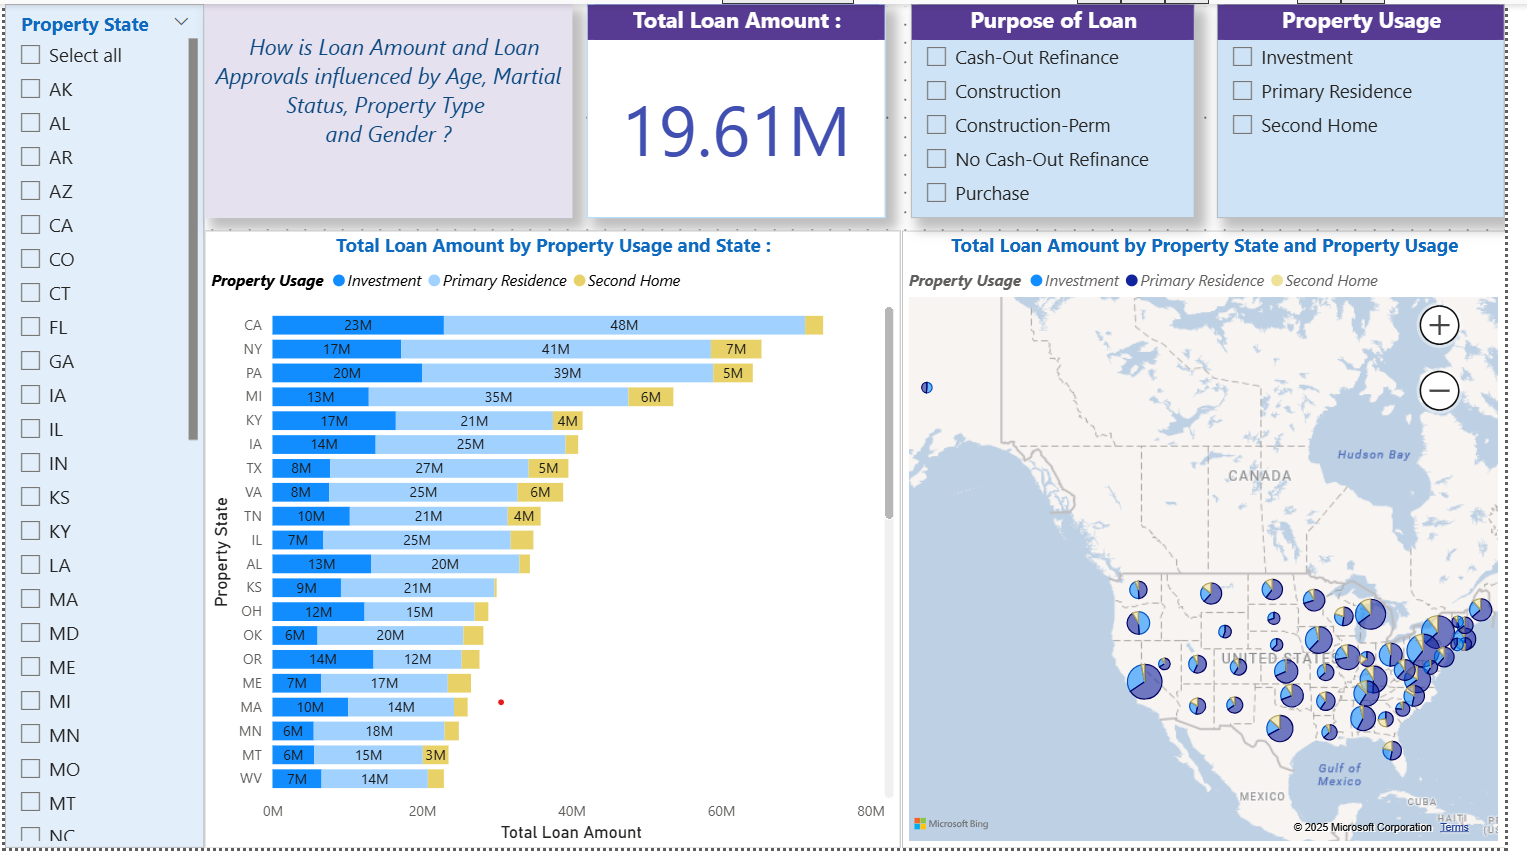

Layout of this report page (visuals, bound fields, positions):
{"tool":"powerbi","page":{"name":"Property","canvas":[1280,720],"ordinal":3},"visuals":[{"type":"slicer","fields":{"Values":["Property.Property State"]},"box":[0,0,170,720],"z":0},{"type":"textbox","box":[170.7,0,313.9,182.9],"z":1000},{"type":"card","fields":{"Values":["Sum(Financials.Monthly Income)"]},"box":[496.8,0,254.5,182.9],"z":2000},{"type":"barChart","fields":{"Y":["Measure Table.Total Loan Amount"],"Category":["Property.Property State"],"Series":["Loan.Property Usage"]},"box":[170.7,193.5,594.3,527.2],"z":3000},{"type":"map","fields":{"Category":["Property.Property Location Hierarchy.Property State","Property.Property Location Hierarchy.Property City"],"Size":["Measure Table.Total Loan Amount"],"Series":["Loan.Property Usage"]},"box":[765,193.5,515,527.2],"z":4000},{"type":"slicer","title":"Property Usage","fields":{"Values":["Loan.Property Usage"]},"box":[1034.7,0,245.3,182.9],"z":5000},{"type":"slicer","title":"Purpose of Loan","fields":{"Values":["Loan.Purpose of Loan"]},"box":[772.6,0,242.3,182.9],"z":6000}]}

Visuals, with their boxes in screenshot pixels (x1, y1, x2, y2), scaled from the page's 1280x720 canvas onto the 1527x865 screenshot:
slicer - Property.Property State: <region>0, 0, 203, 864</region>
textbox: <region>204, 0, 578, 220</region>
card - Sum(Financials.Monthly Income): <region>593, 0, 896, 220</region>
barChart - Measure Table.Total Loan Amount x Property.Property State: <region>204, 232, 913, 864</region>
map - Property.Property Location Hierarchy.Property State x Property.Property Location Hierarchy.Property City: <region>913, 232, 1526, 864</region>
"Property Usage" slicer: <region>1234, 0, 1526, 220</region>
"Purpose of Loan" slicer: <region>922, 0, 1211, 220</region>
